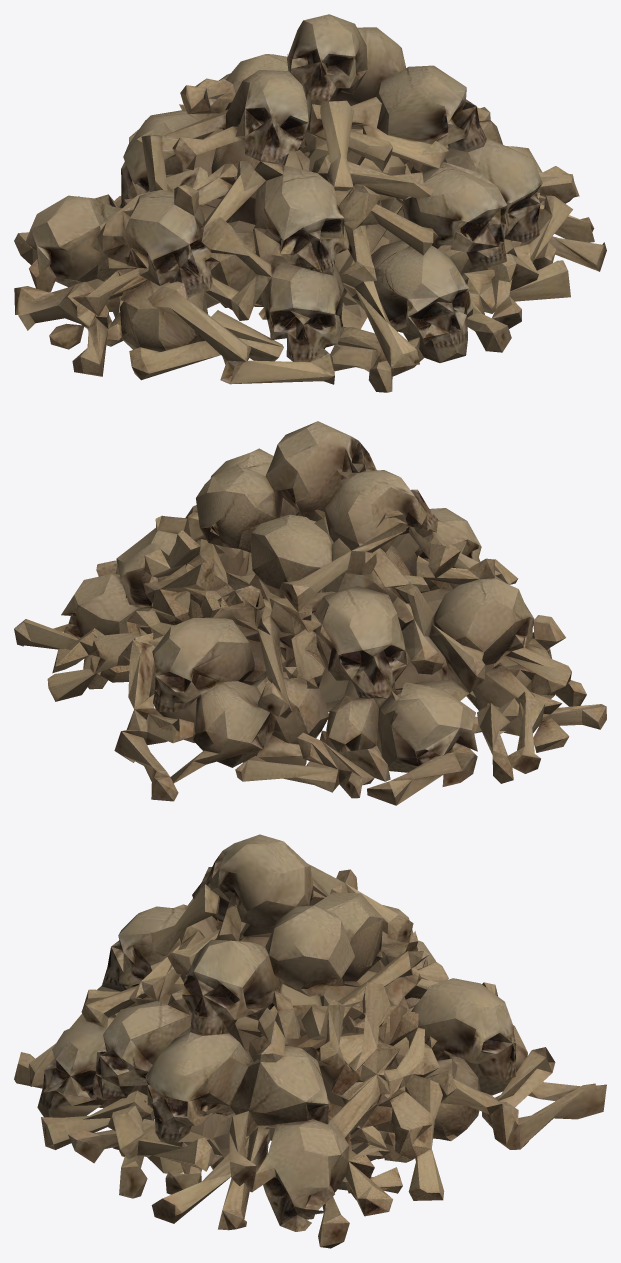
Rendered from decor-bones.glb.
3 renders of one model, top to bottom at view 1: azimuth 30°, elevation 25°; view 2: azimuth 150°, elevation 25°; view 3: azimuth 270°, elevation 25°, orthographic. The views are drawn at different scales.
Bounding box in the file's own units: 1.89 × 0.8889 × 1.73.
Materials: 1 (1 with a texture image).
